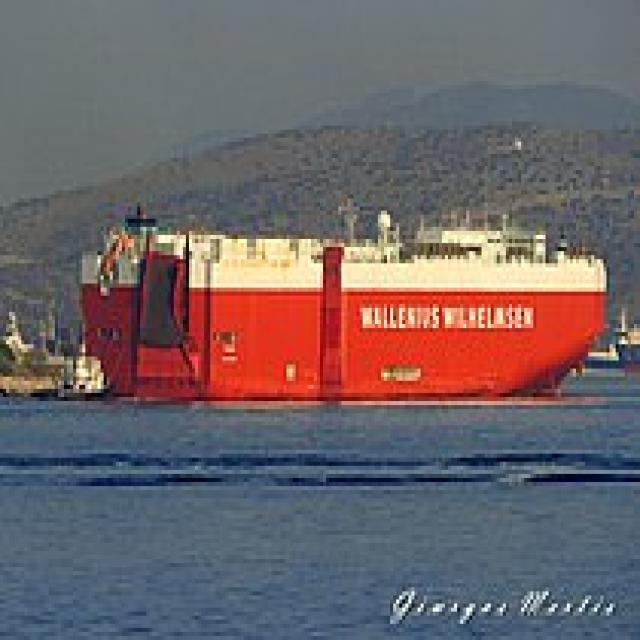Carrier: (76, 194, 607, 405)
